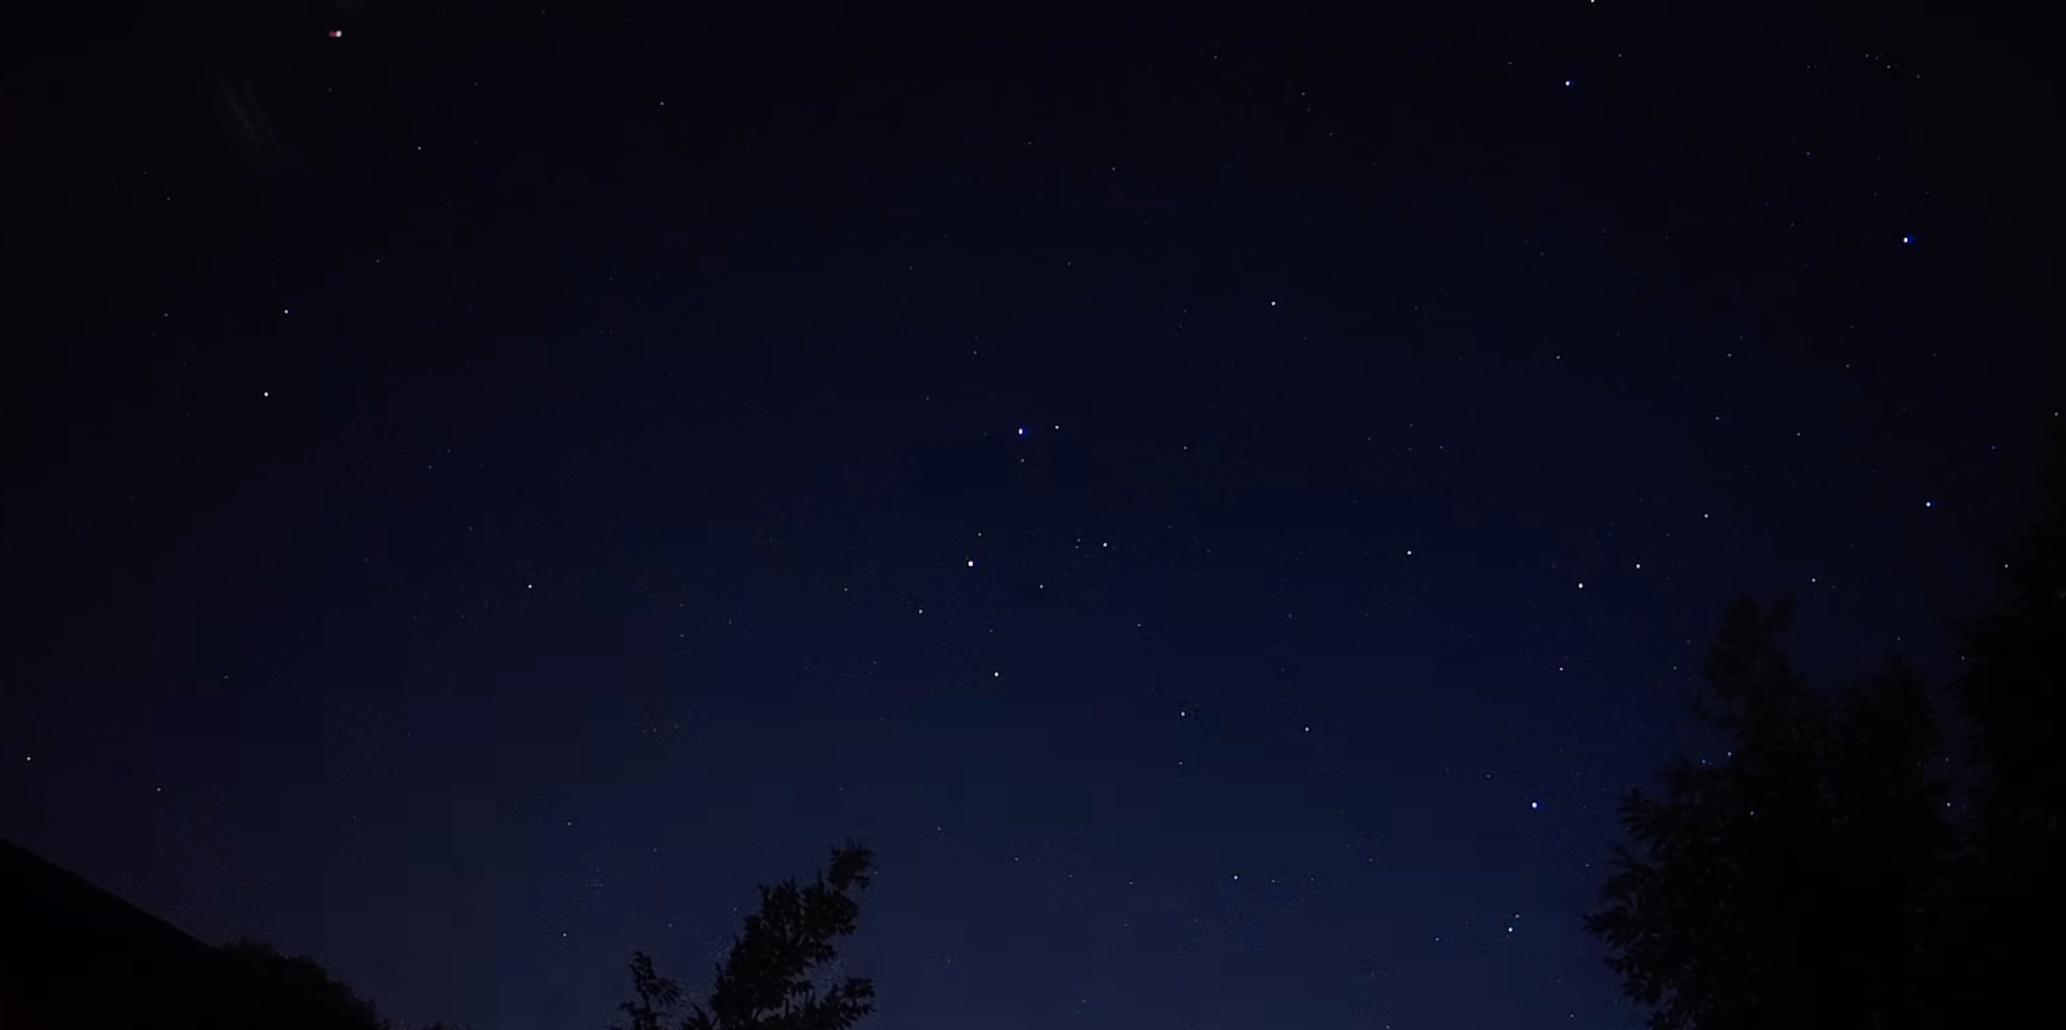Plane: (304, 18, 368, 50)
